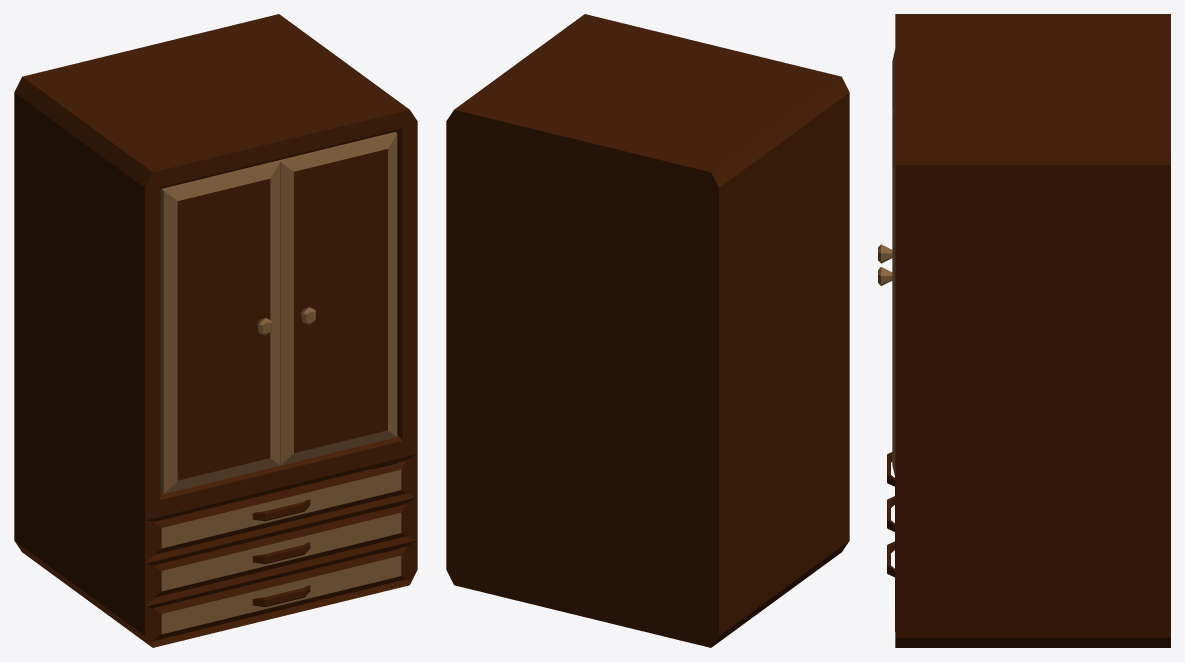
The model's file is uploads_files_3035706_Wardrope.fbx.
The picture shows the model from 3 angles, left to right: view 1: azimuth 30°, elevation 25°; view 2: azimuth 150°, elevation 25°; view 3: azimuth 270°, elevation 25°; orthographic projection. The views are drawn at different scales.
Parts seen in each view (by area): view 1: Wardrobe, ShutterRight, ShutterLeft, Drawer1, Drawer3, Drawer2; view 2: Wardrobe; view 3: Wardrobe, ShutterLeft, ShutterRight.
Part boxes in pixels (x1=…): Wardrobe: x1=14, y1=14, x2=417, y2=647; ShutterRight: x1=160, y1=160, x2=280, y2=494; ShutterLeft: x1=278, y1=132, x2=397, y2=465; Drawer1: x1=154, y1=461, x2=406, y2=554; Drawer3: x1=153, y1=546, x2=406, y2=640; Drawer2: x1=153, y1=504, x2=406, y2=597; Wardrobe: x1=446, y1=14, x2=849, y2=647; Wardrobe: x1=895, y1=14, x2=1170, y2=647; ShutterLeft: x1=878, y1=109, x2=895, y2=476; ShutterRight: x1=878, y1=49, x2=895, y2=263.
Size of the model in its own units: 598 by 996 by 527.
